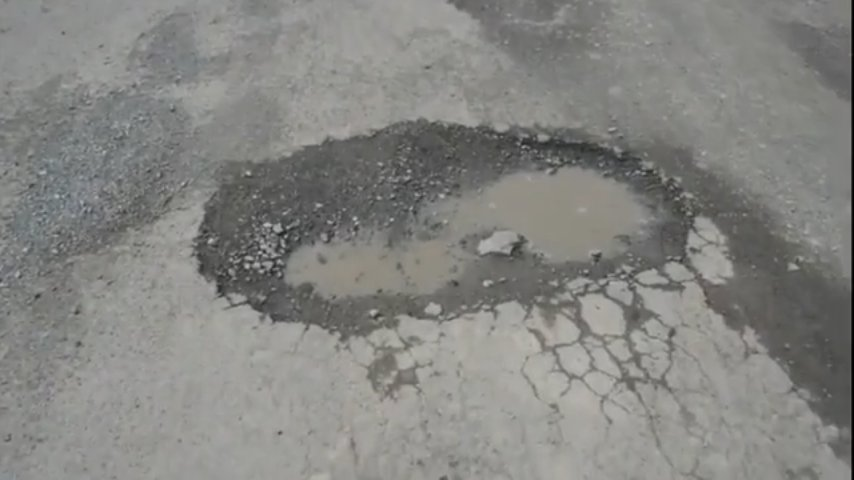pothole: (247, 122, 698, 480), (648, 171, 854, 409)
